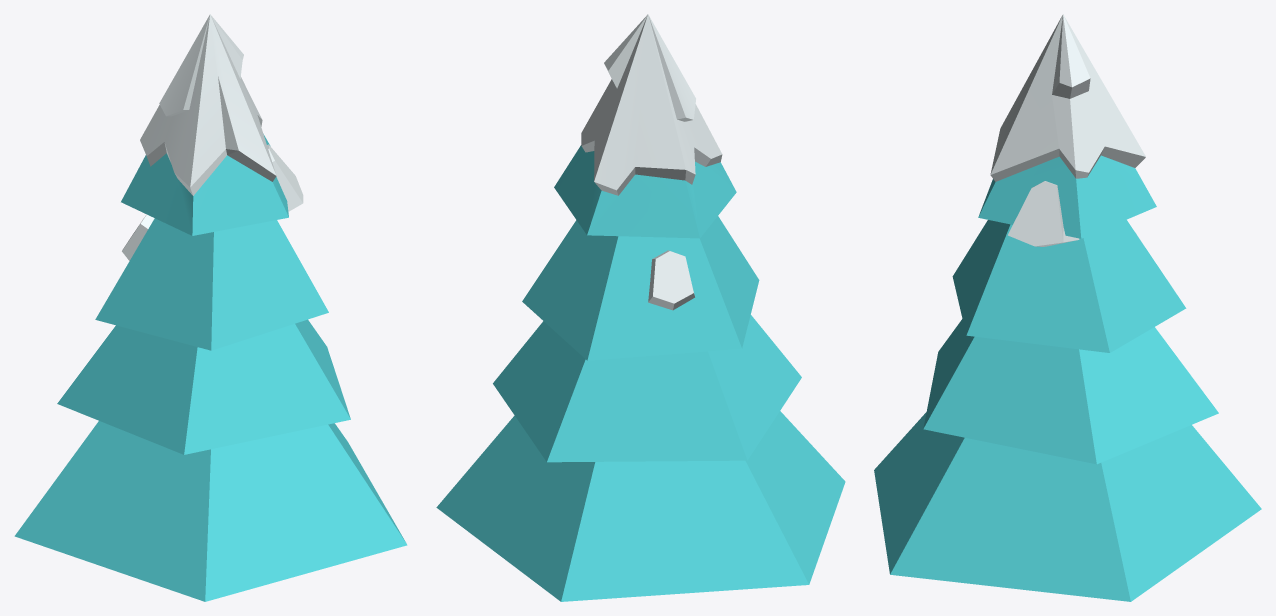
Rendered from arbre_2.fbx.
3 renders of one model, left to right at view 1: azimuth 30°, elevation 25°; view 2: azimuth 150°, elevation 25°; view 3: azimuth 270°, elevation 25°, orthographic. The views are drawn at different scales.
Parts seen in each view (by area): view 1: pCone3, pCone2, pCube3, pCone4, pCube4, pCube5; view 2: pCone3, pCone2, pCube3, pCone4, pCube5; view 3: pCone3, pCone2, pCone4, pCube3, pCube4.
Part boxes in pixels (bbox=[...]): pCone3: bbox=[14, 421, 407, 601]; pCone2: bbox=[57, 319, 350, 454]; pCube3: bbox=[121, 14, 288, 235]; pCone4: bbox=[95, 218, 328, 350]; pCube4: bbox=[267, 144, 303, 211]; pCube5: bbox=[122, 214, 154, 260]; pCone3: bbox=[436, 411, 845, 601]; pCone2: bbox=[493, 315, 801, 462]; pCube3: bbox=[554, 14, 736, 238]; pCone4: bbox=[522, 216, 759, 360]; pCube5: bbox=[648, 250, 694, 310]; pCone3: bbox=[874, 412, 1261, 601]; pCone2: bbox=[923, 319, 1218, 464]; pCone4: bbox=[952, 220, 1186, 352]; pCube3: bbox=[978, 14, 1156, 238]; pCube4: bbox=[1008, 181, 1079, 246].
Size of the model in its own units: 3.39 by 5.21 by 3.23.
